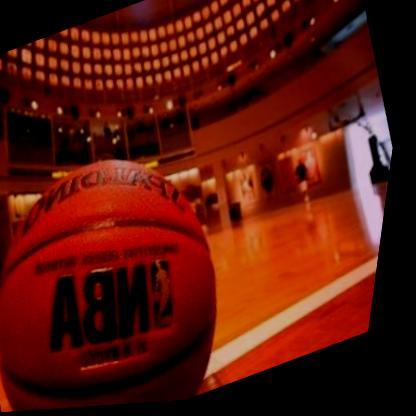basketball: (0, 115, 281, 416)
